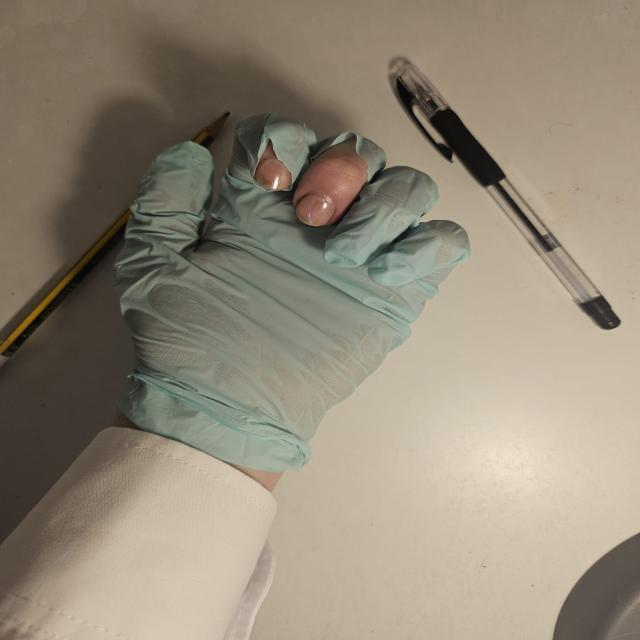gloves_damaged: (104, 107, 479, 476)
